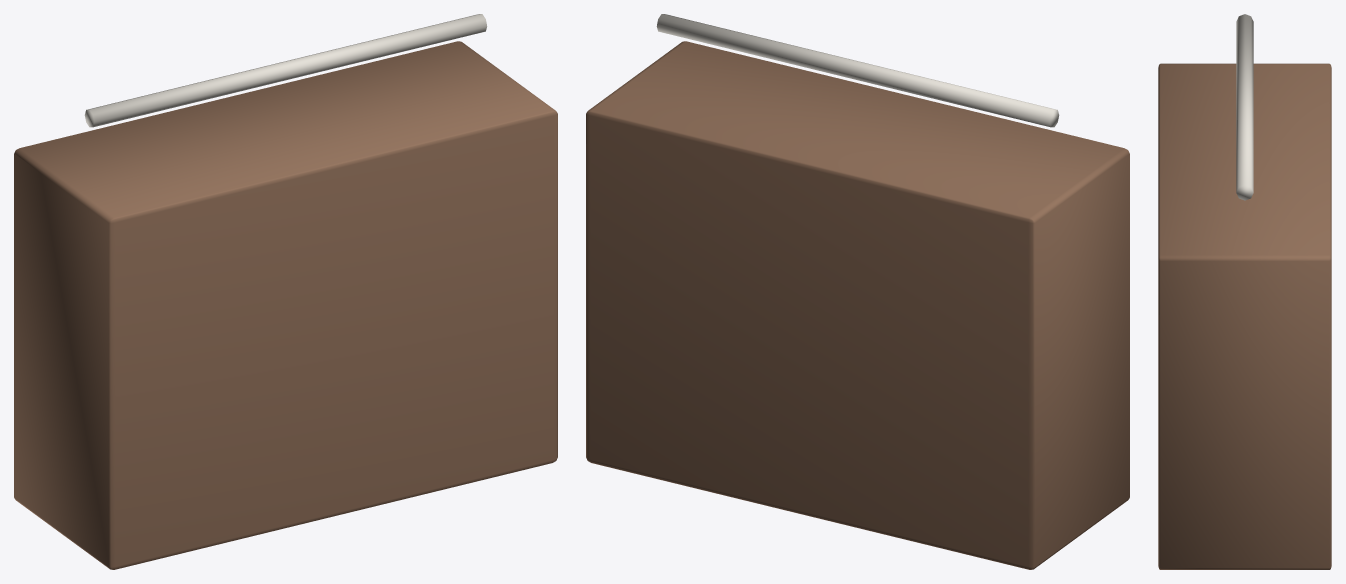
File: canta.glb
The picture shows the model from 3 angles, left to right: view 1: azimuth 30°, elevation 25°; view 2: azimuth 150°, elevation 25°; view 3: azimuth 270°, elevation 25°; orthographic projection. The views are drawn at different scales.
Parts seen in each view (by area): view 1: govde, sap; view 2: govde, sap; view 3: govde, sap.
Part boxes in pixels (x1,y1,x2,y2): govde: [14, 41, 557, 569]; sap: [84, 14, 487, 127]; govde: [586, 41, 1129, 569]; sap: [656, 14, 1059, 127]; govde: [1158, 63, 1331, 569]; sap: [1236, 14, 1253, 200].
Bounding box in the file's own units: 0.32 × 0.286 × 0.12.
